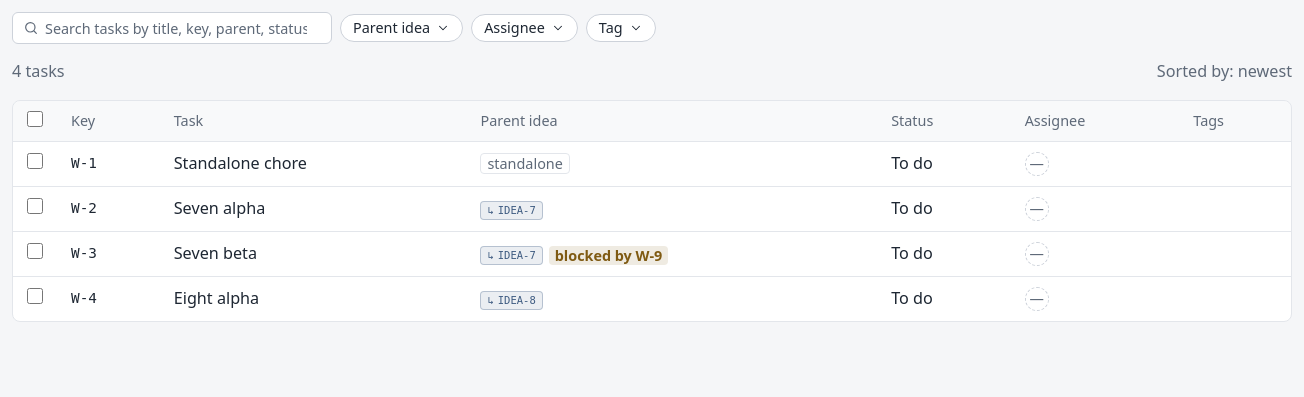
Backlog selection bar sprint choice › offers the one open sprint by name and state, with no sprint select
Click the checkbox named "Select W-1": click(35, 161) [27,153,43,169]
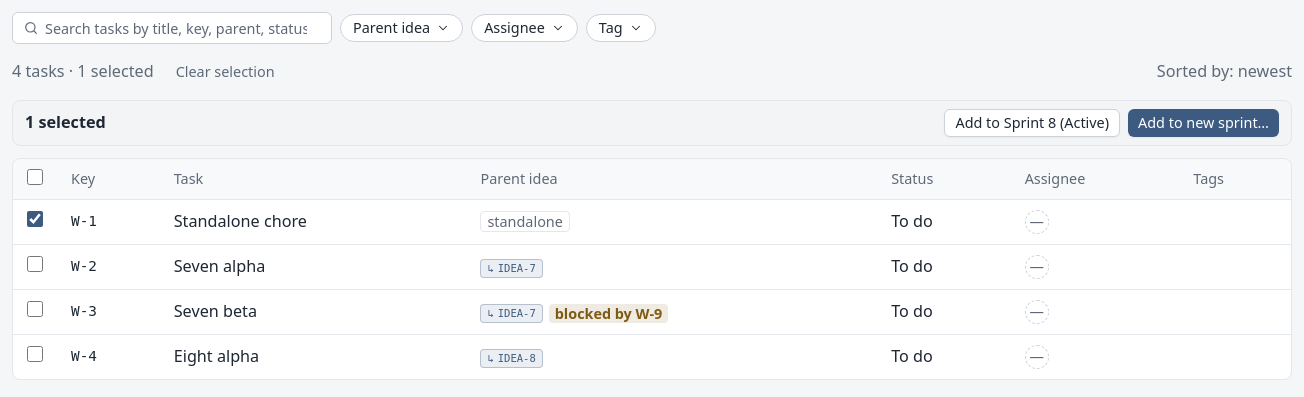
Check: the button "Add to Sprint 8 (Active)" is shown, box [944,109,1120,137]
